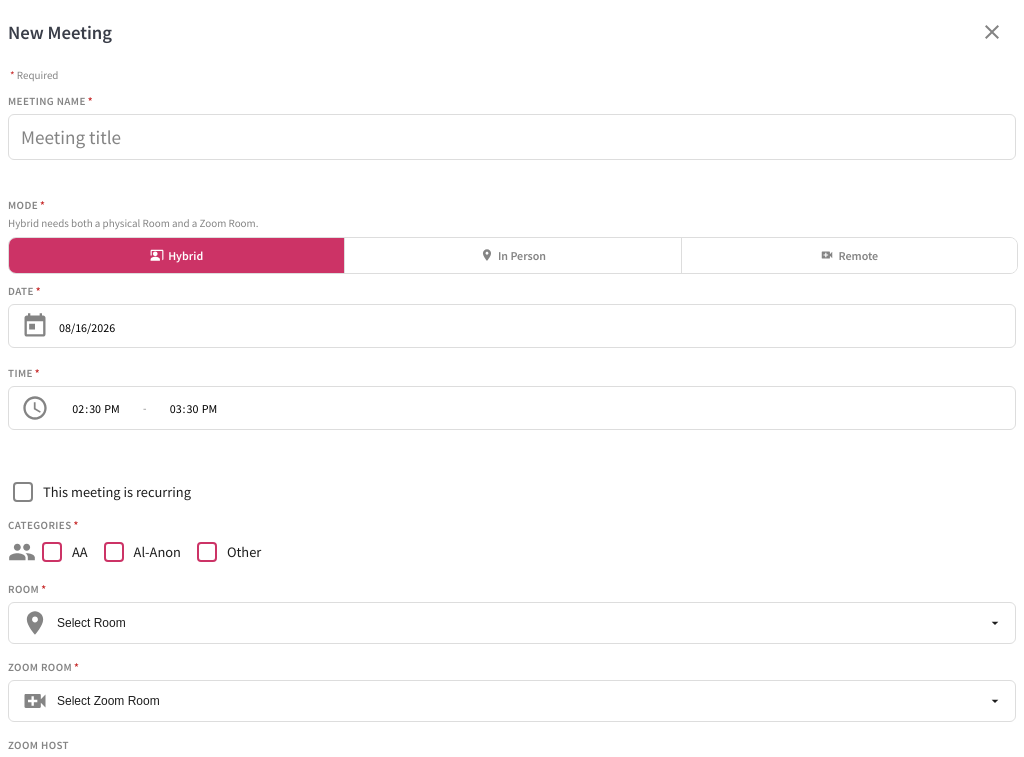
Test: NewMeetingSidebar › flags a start and end time that are the same, but not an overnight range
Replace the text in the time field named "Start time" with "18:00" at (96, 408), box [57, 400, 135, 417]
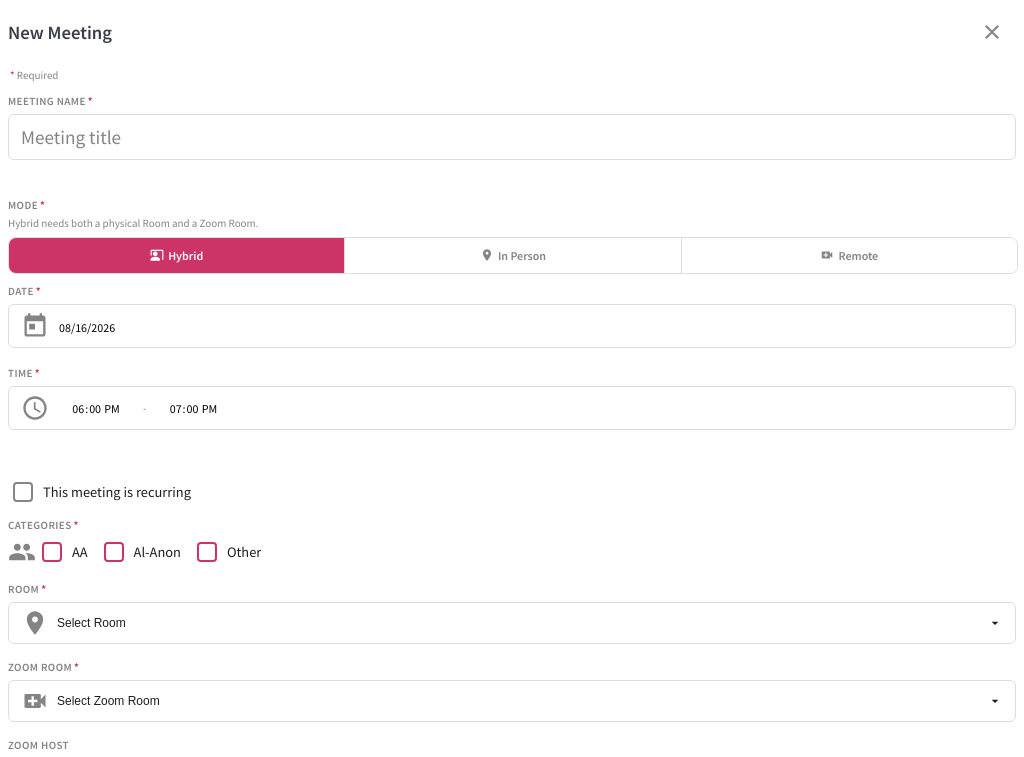
Replace the text in the time field named "End time" with "18:00" at (194, 408), box [154, 400, 232, 417]
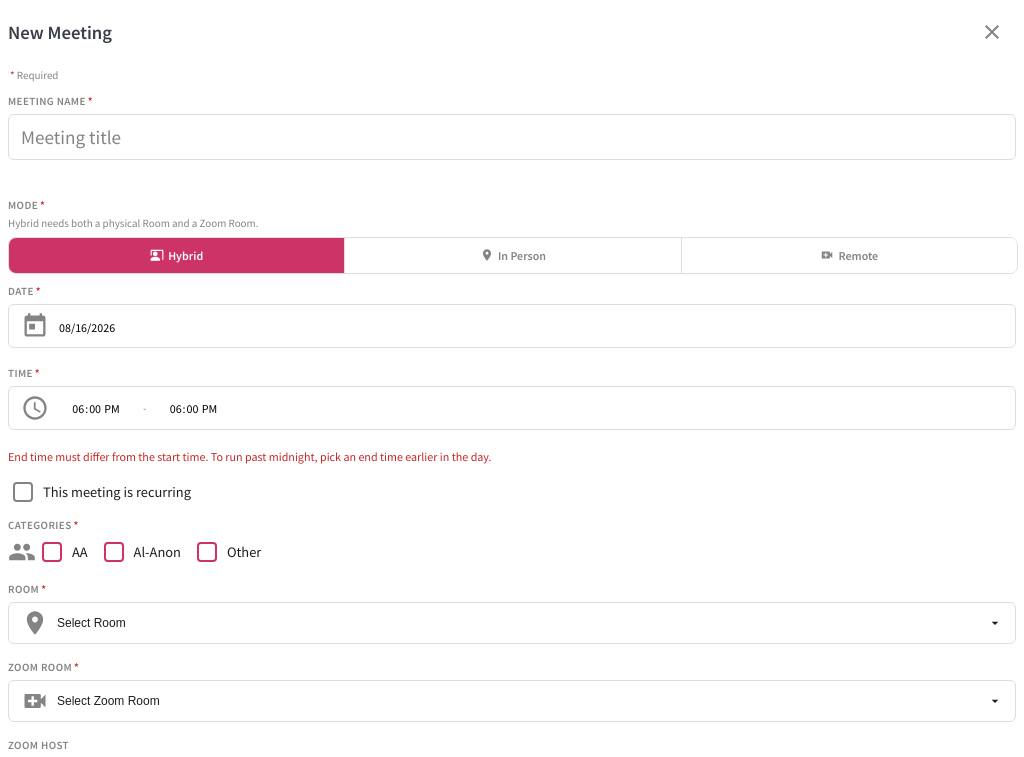
Check: the text "End time must differ from the start time" is shown, box [8, 449, 492, 464]
Replace the text in the time field named "End time" with "01:00" at (194, 408), box [154, 400, 232, 417]
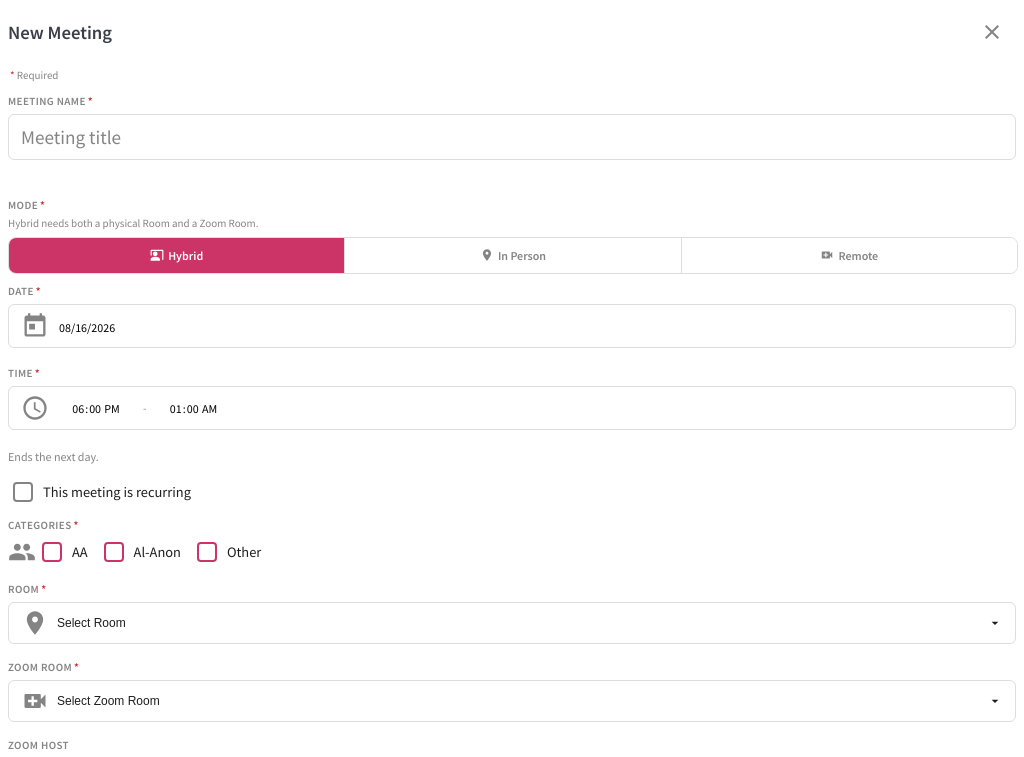
Check: the text "End time must differ from the start time" is gone
Check: the text "Ends the next day." is shown, box [8, 449, 99, 464]
